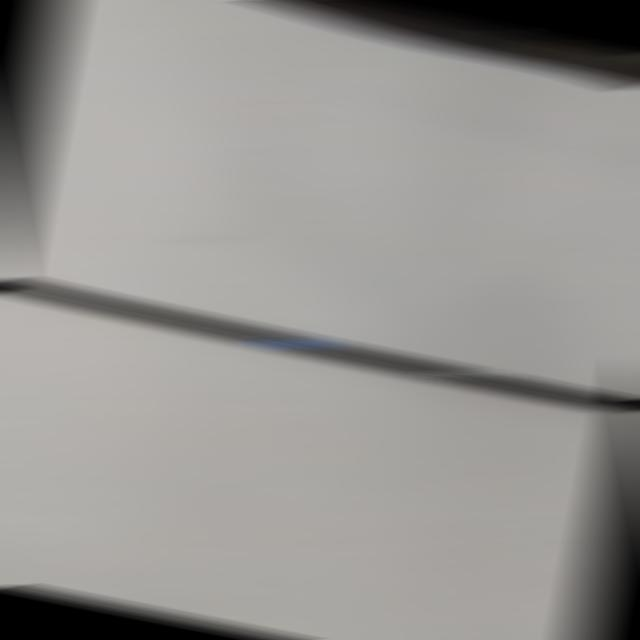blue: (264, 334, 326, 352)
